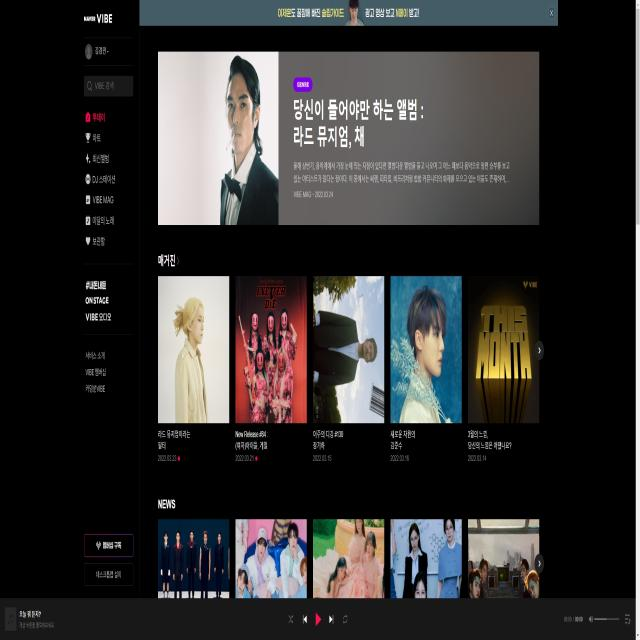menu-panel: (80, 8, 138, 591)
